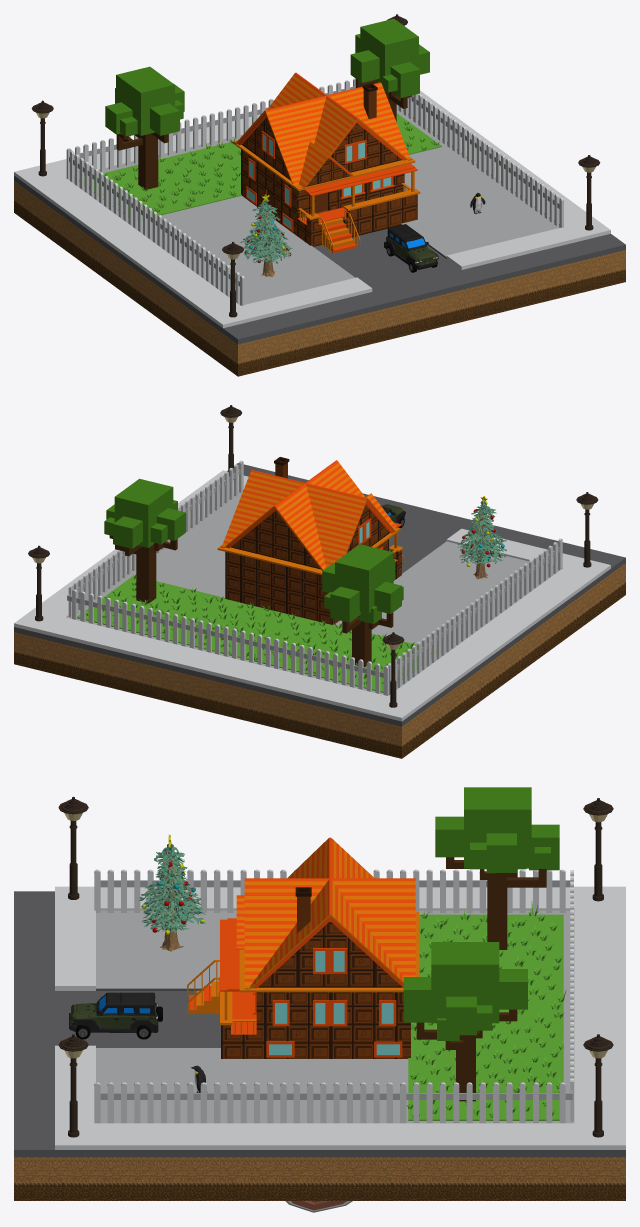
The picture shows the model from 3 angles, top to bottom: view 1: azimuth 30°, elevation 25°; view 2: azimuth 150°, elevation 25°; view 3: azimuth 270°, elevation 25°; orthographic projection. The views are drawn at different scales.
Parts seen in each view (by area): view 1: Cube.004, Cube, OBJRANDOM_CHRISTMAS_TREE, VEHICLES_JEEP; view 2: Cube.004, Cube, OBJRANDOM_CHRISTMAS_TREE; view 3: Cube.004, Cube, OBJRANDOM_CHRISTMAS_TREE, VEHICLES_JEEP.
Boxes of the visible parts, x1,y1,x2,y2 form: Cube.004: [14, 14, 625, 376]; Cube: [232, 72, 420, 253]; OBJRANDOM_CHRISTMAS_TREE: [240, 194, 292, 276]; VEHICLES_JEEP: [384, 224, 438, 272]; Cube.004: [14, 405, 625, 758]; Cube: [217, 457, 404, 624]; OBJRANDOM_CHRISTMAS_TREE: [457, 496, 506, 579]; Cube.004: [14, 787, 625, 1200]; Cube: [187, 837, 419, 1058]; OBJRANDOM_CHRISTMAS_TREE: [139, 834, 205, 952]; VEHICLES_JEEP: [69, 992, 162, 1039].
Bounding box in the file's own units: 4000 × 2317 × 4000.
37 materials, 4 textured.
